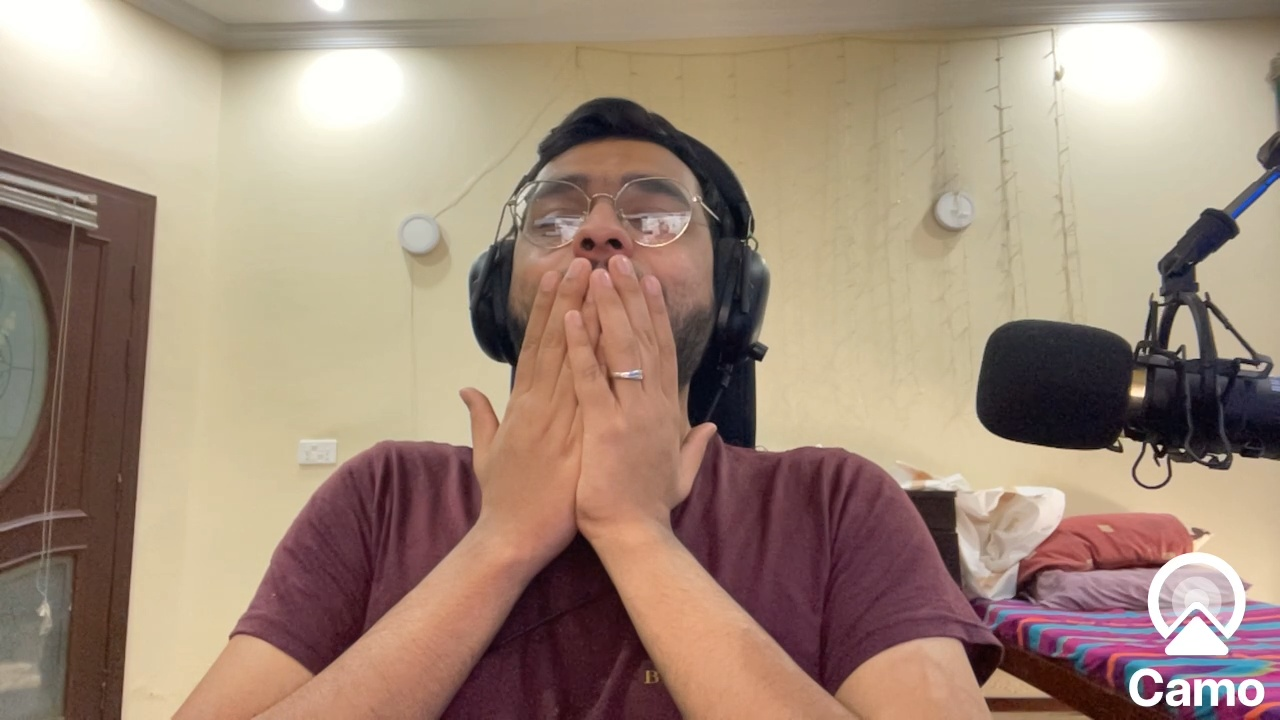surprised: (489, 130, 717, 438)
